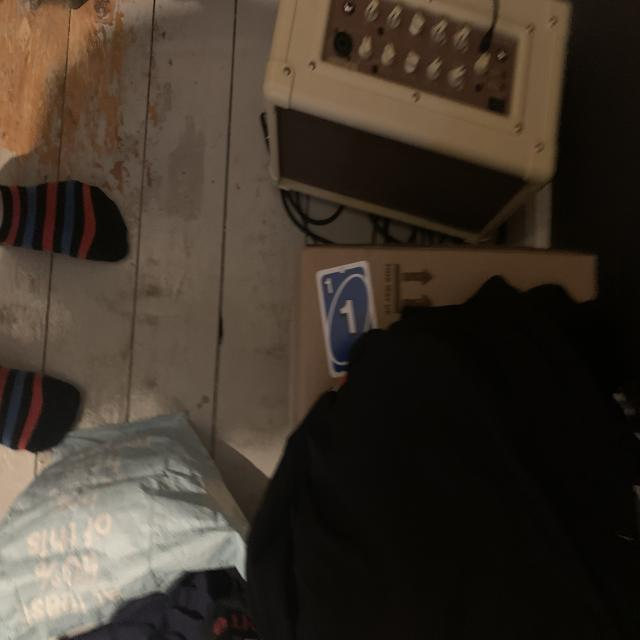lblue-1: (322, 274, 335, 297)
